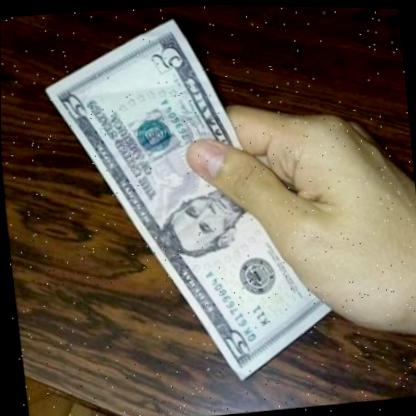five-front: (29, 1, 339, 408)
